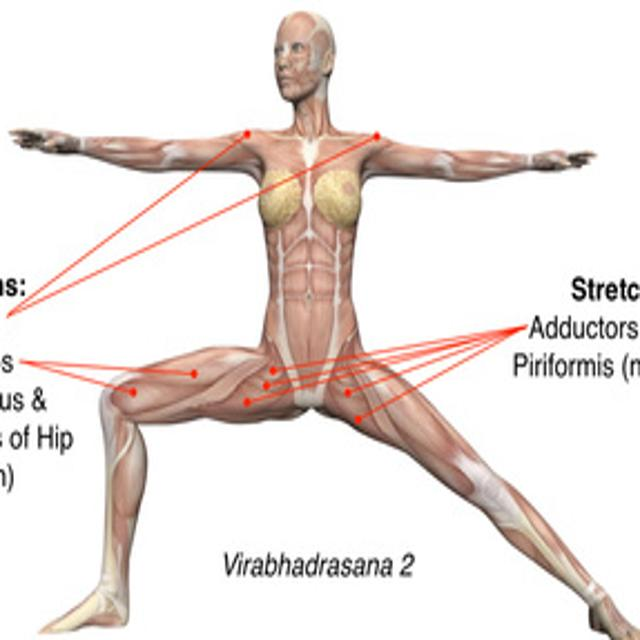Warrior_II: (5, 6, 640, 636)
